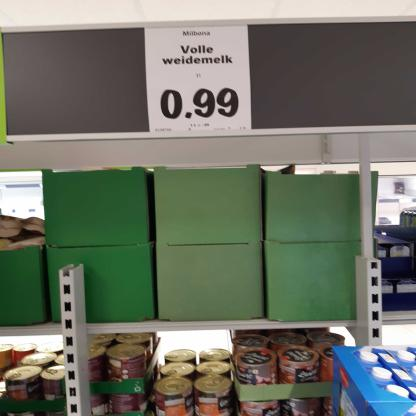prtg: (145, 26, 253, 133)
